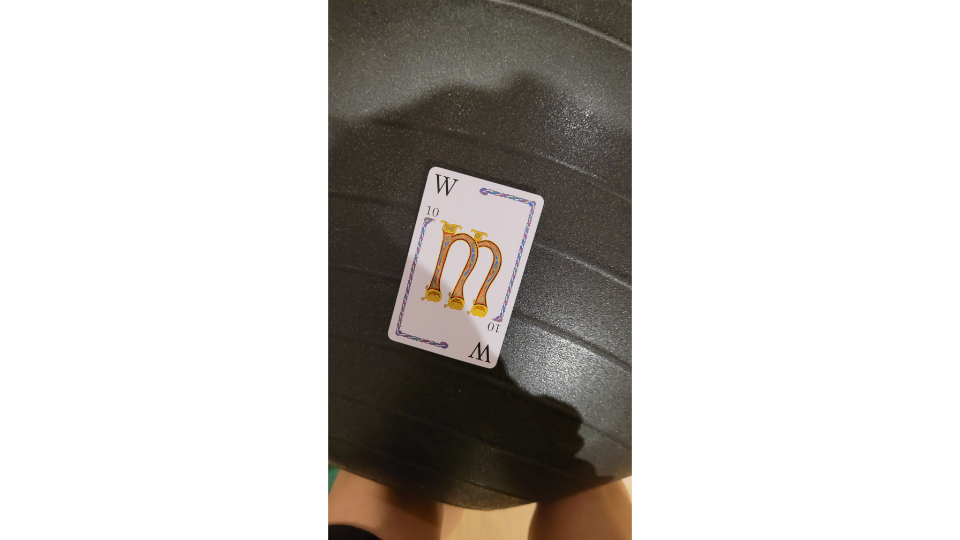W: (385, 164, 547, 371)
